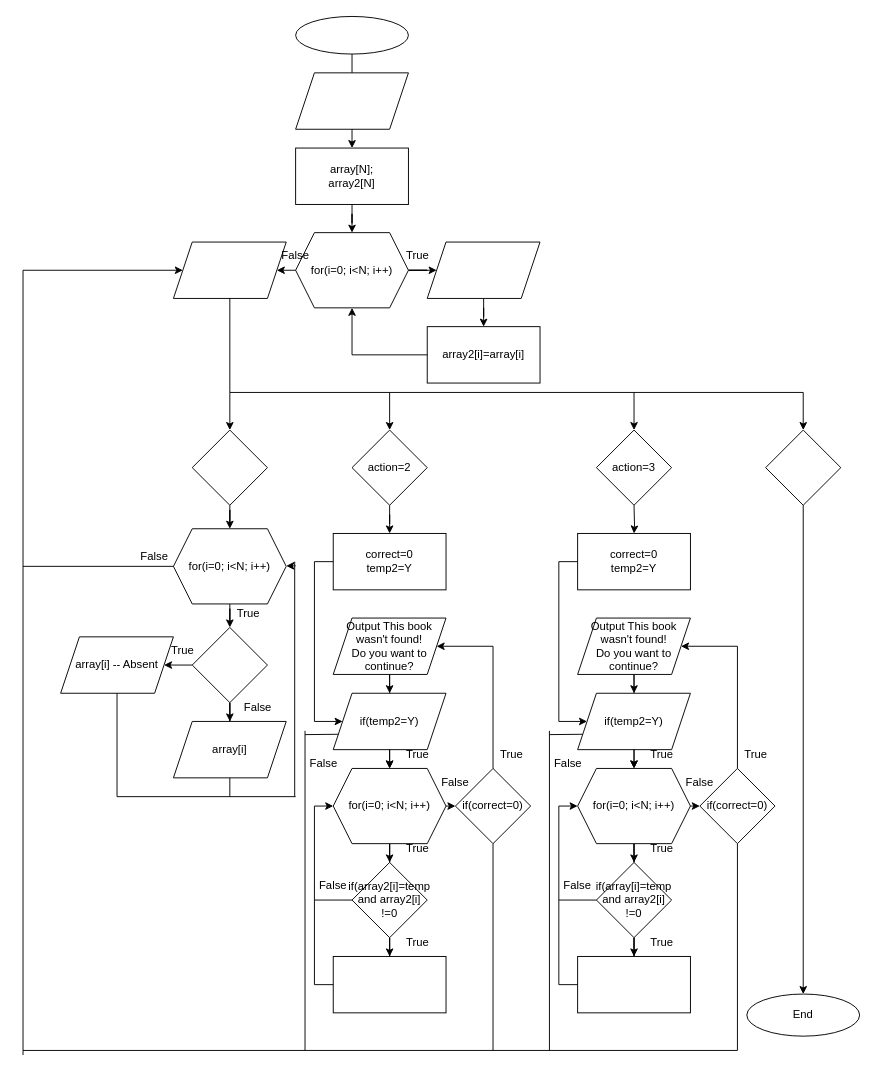
This 876x1073 diagram has some shape labels left out. Here are the shapes that lost their labels. From the top down, the box of each, then its label:
(295, 16, 408, 54): Beginning
(295, 72, 408, 129): Input N
(172, 241, 286, 298): Output menu Input action
(426, 241, 540, 298): Input array[i]
(191, 429, 267, 505): action=1
(765, 429, 841, 505): action=4
(191, 627, 267, 703): if(array2[i]=0)
(332, 956, 446, 1013): array2[i]=0 correct=correct+1
(577, 956, 690, 1013): array2[i]=array[i] correct=correct+1
